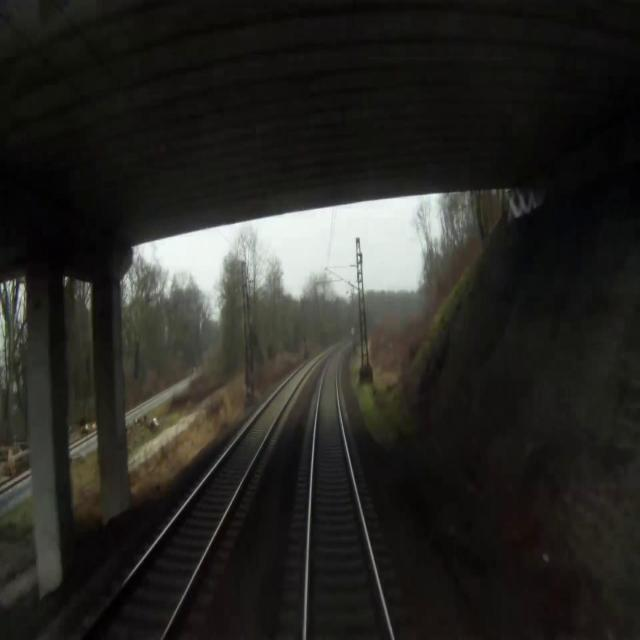rail-track: (83, 358, 314, 639), (308, 346, 390, 639)
